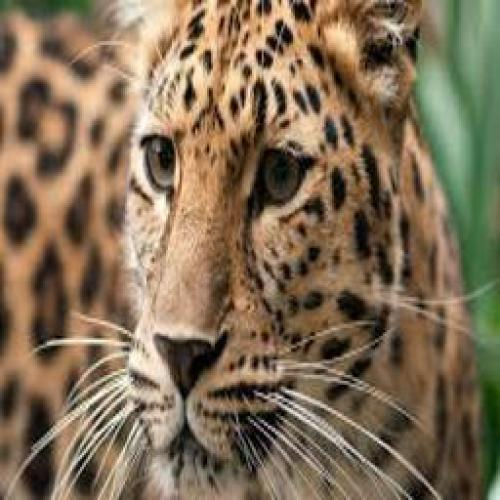amur_leopard-endangered: (12, 12, 476, 492)
